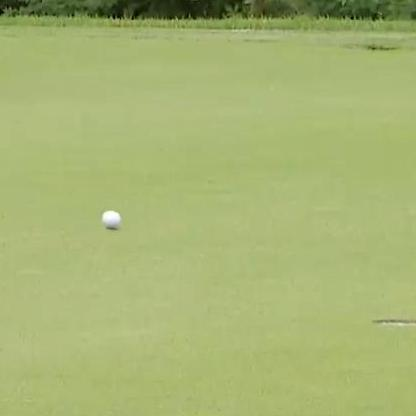golfball: (100, 208, 120, 228)
